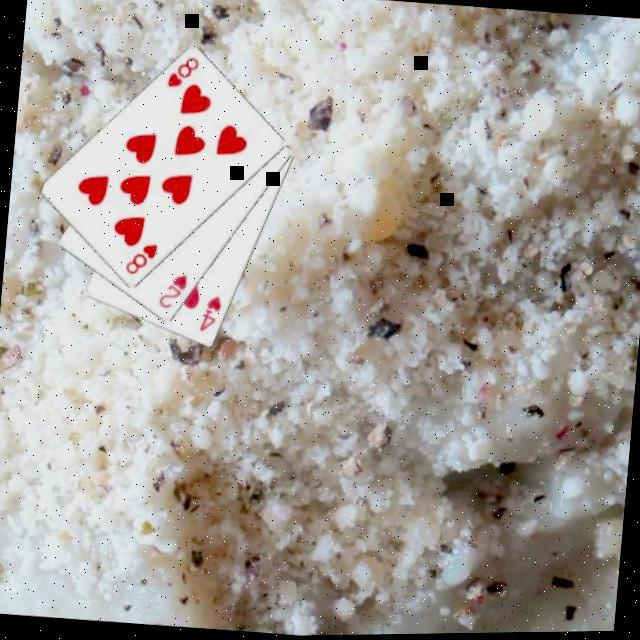2H: (153, 271, 189, 314)
4H: (194, 293, 224, 337)
8H: (120, 240, 160, 281), (162, 52, 201, 94)
